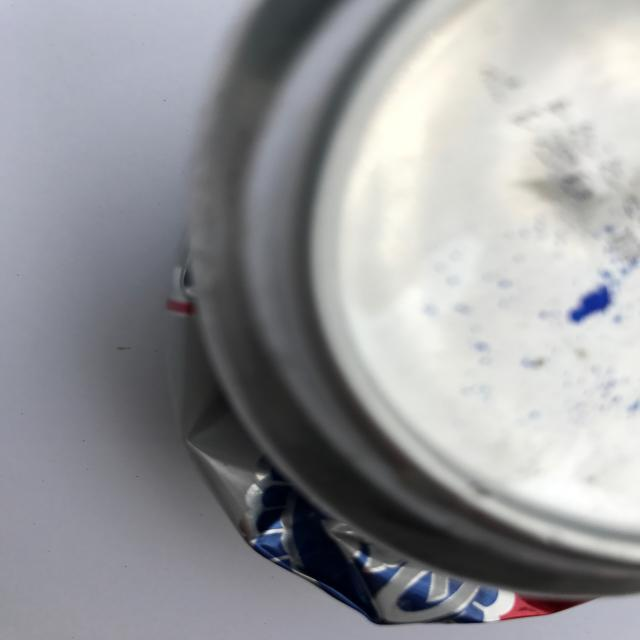metal: (161, 0, 640, 624)
